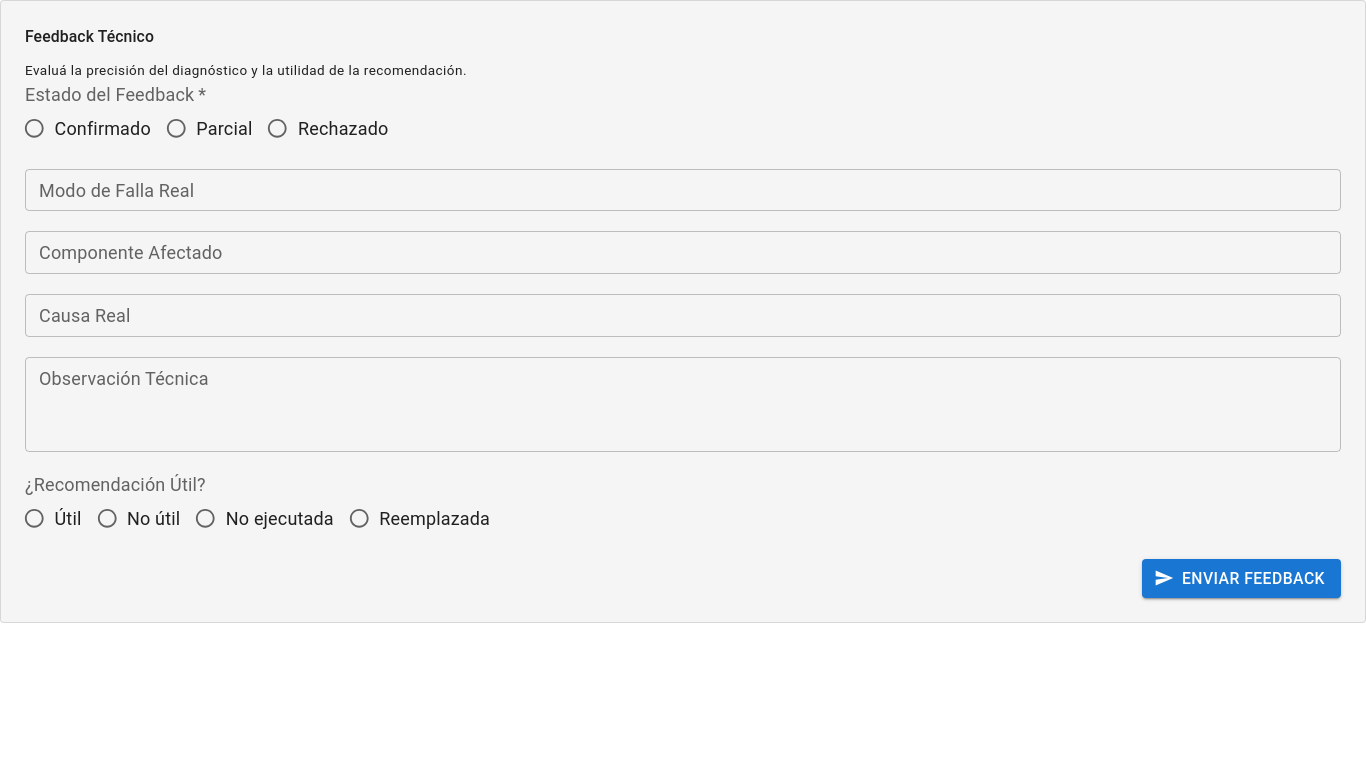
Scenario: FeedbackForm › envía el formulario exitosamente cuando los campos requeridos están completos
Select feedback status
Click the radio button labelled "Confirmado": x=87, y=128 [23,117,151,140]
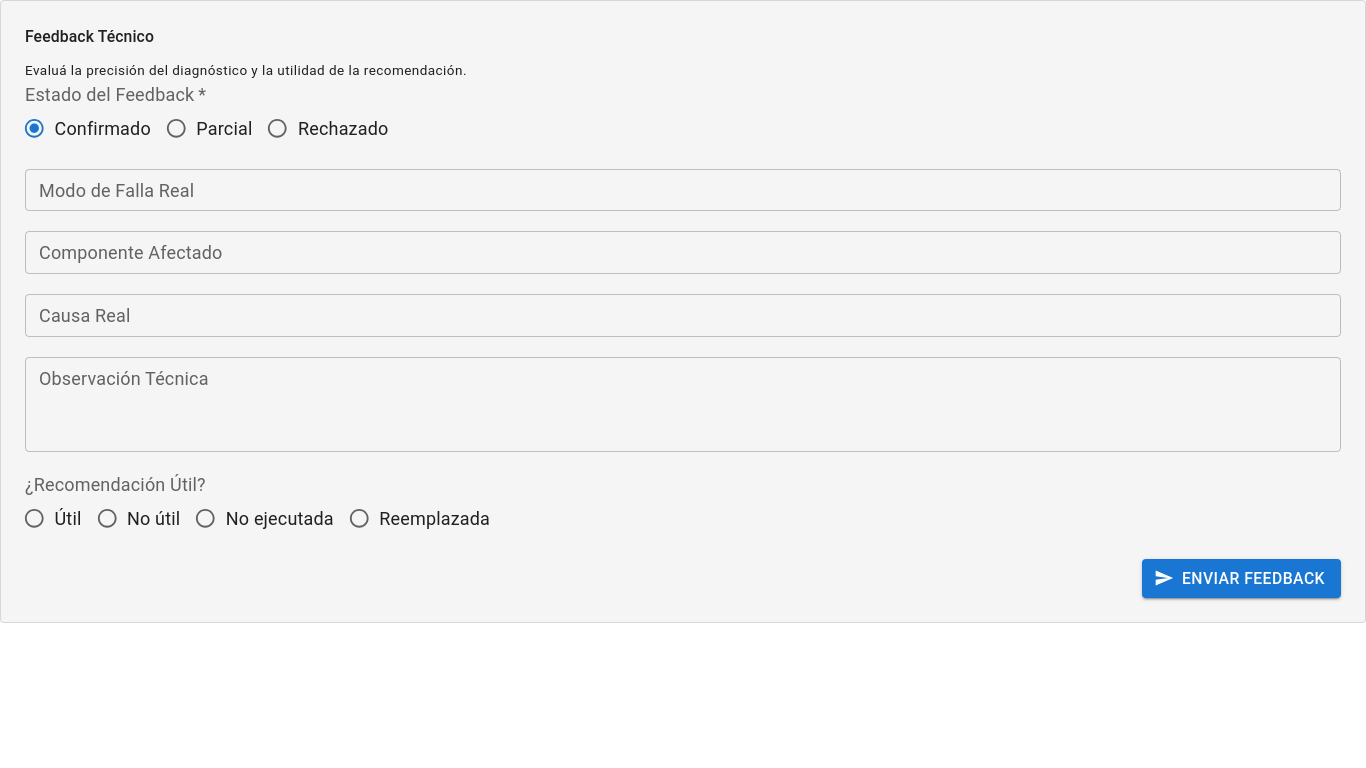
Fill in a text field
In the field labelled "Componente Afectado": x=683, y=253 [25,232,1341,274], type "Rodamiento principal"
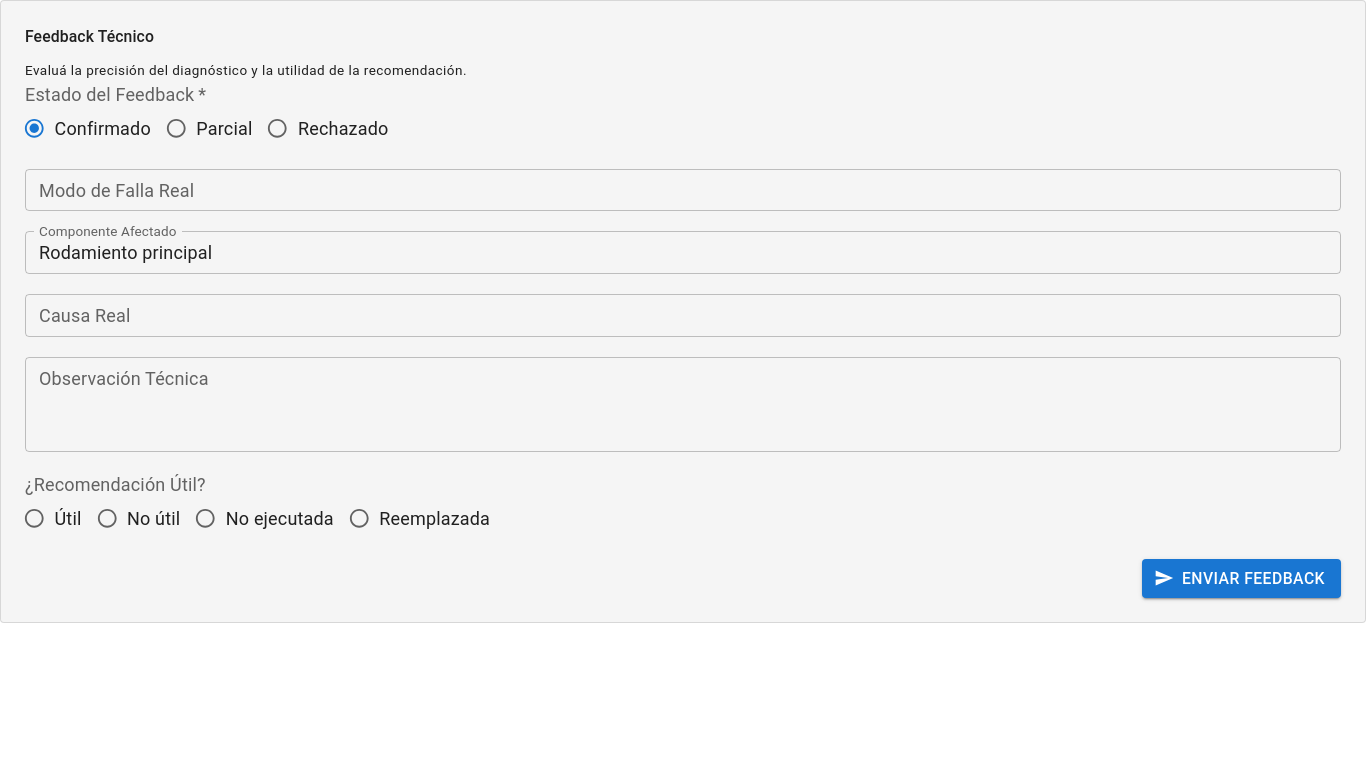
Click submit
Click the button "Enviar Feedback": x=1241, y=578 [1142,559,1341,598]
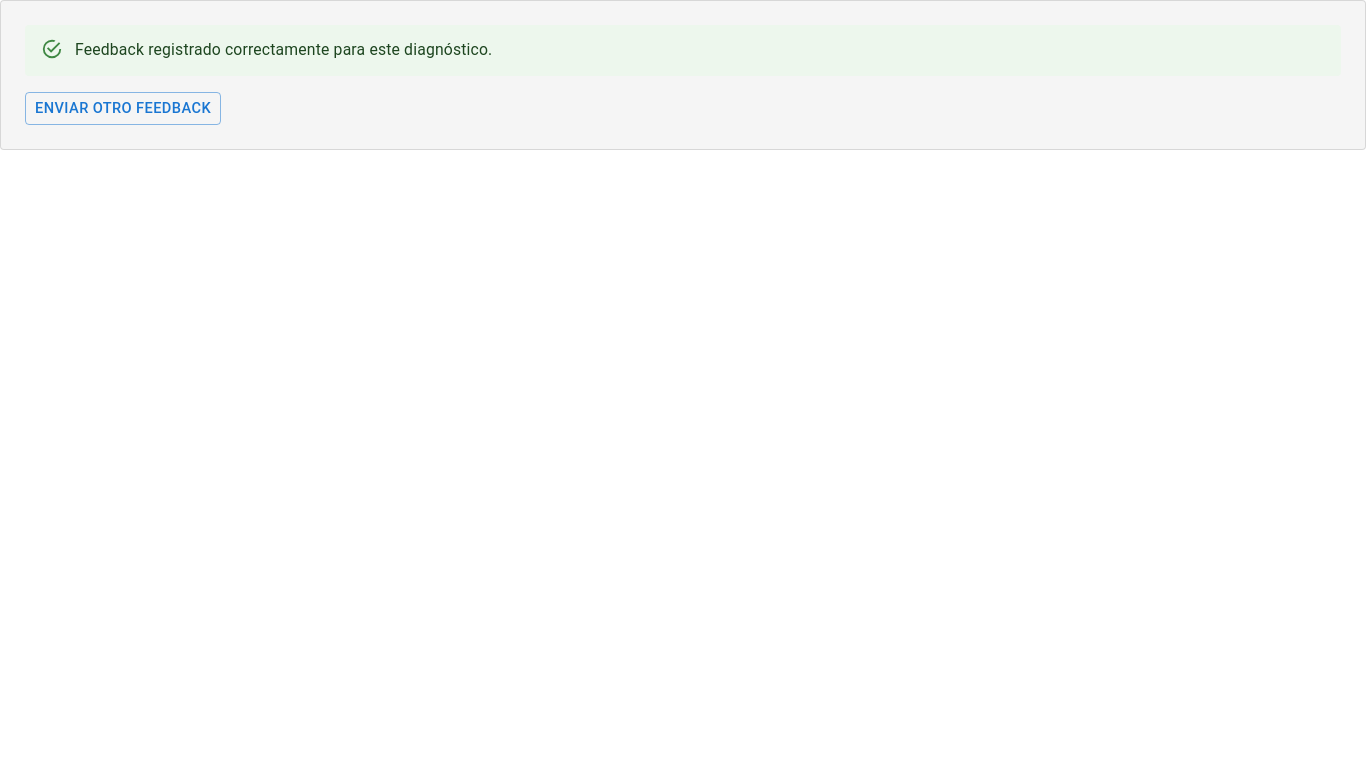
Check: the text "Feedback registrado correctamente para este diagnóstico." is shown, box [75,40,492,59]
